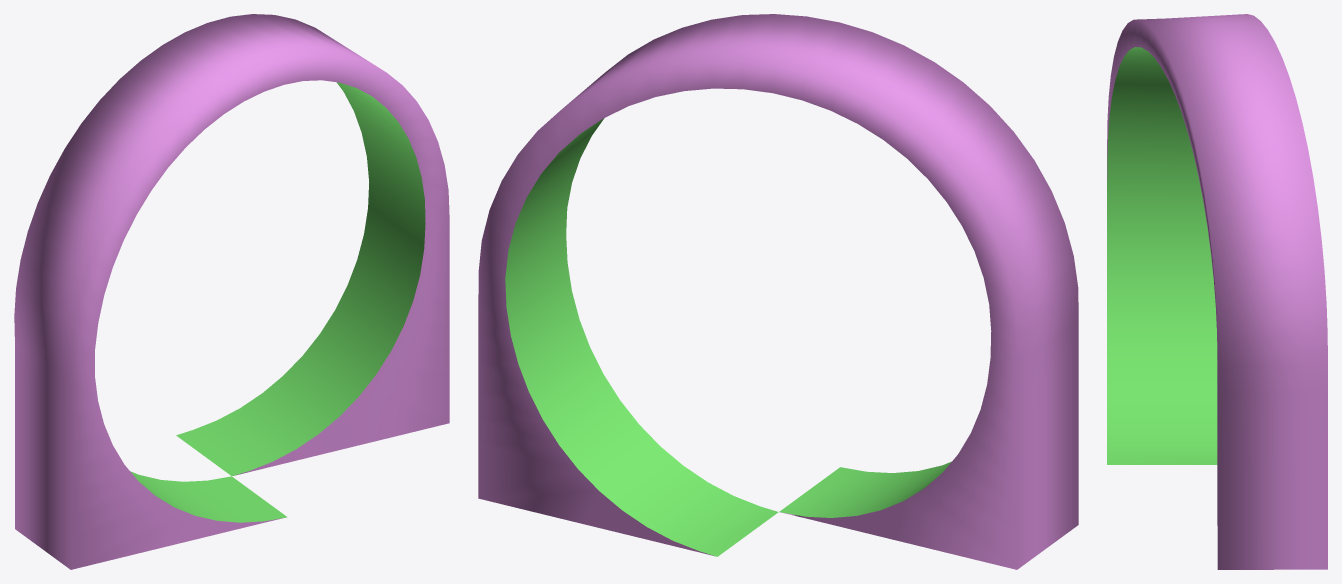
The model's file is GravityLoop.fbx.
The picture shows the model from 3 angles, left to right: view 1: azimuth 30°, elevation 25°; view 2: azimuth 150°, elevation 25°; view 3: azimuth 270°, elevation 25°; orthographic projection. The views are drawn at different scales.
Parts seen in each view (by area): view 1: Loop; view 2: Loop; view 3: Loop.
Boxes of the visible parts, box(x1,y1,x2,y2) form: Loop: box(14, 14, 449, 569); Loop: box(478, 14, 1078, 569); Loop: box(1107, 14, 1327, 569).
Bounding box in the file's own units: 17.99 × 17.01 × 8.01.
